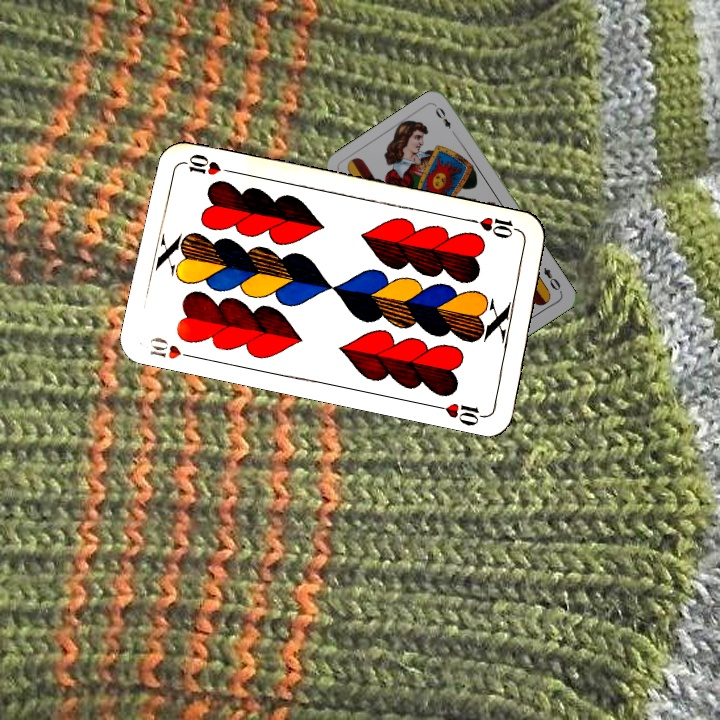EO: (539, 263, 564, 295)
H10: (145, 333, 202, 362), (466, 213, 524, 241)
